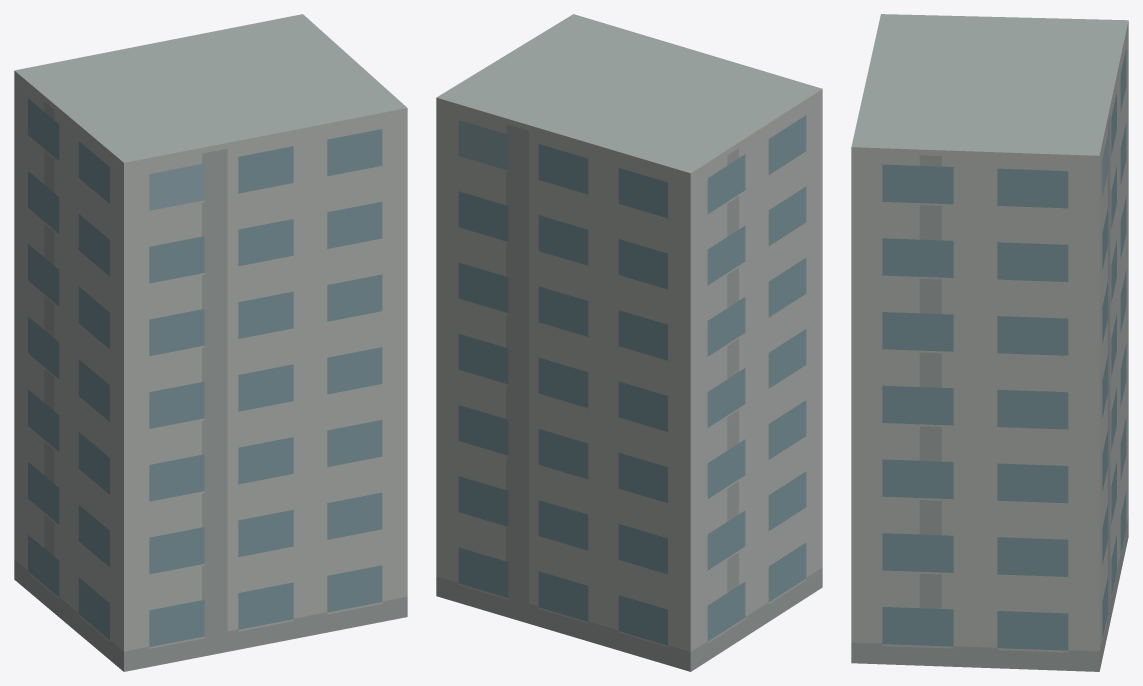
Rendered from survey-upis-32576039.glb.
3 renders of one model, left to right at view 1: azimuth 30°, elevation 25°; view 2: azimuth 150°, elevation 25°; view 3: azimuth 270°, elevation 25°, orthographic. The views are drawn at different scales.
Parts seen in each view (by area): view 1: survey-upis-32576039.tmp; view 2: survey-upis-32576039.tmp; view 3: survey-upis-32576039.tmp.
Part boxes in pixels (x1=…): survey-upis-32576039.tmp: x1=14, y1=14, x2=407, y2=671; survey-upis-32576039.tmp: x1=436, y1=14, x2=822, y2=671; survey-upis-32576039.tmp: x1=851, y1=14, x2=1128, y2=671.
Size of the model in its own units: 12.62 by 21.4 by 10.43.
